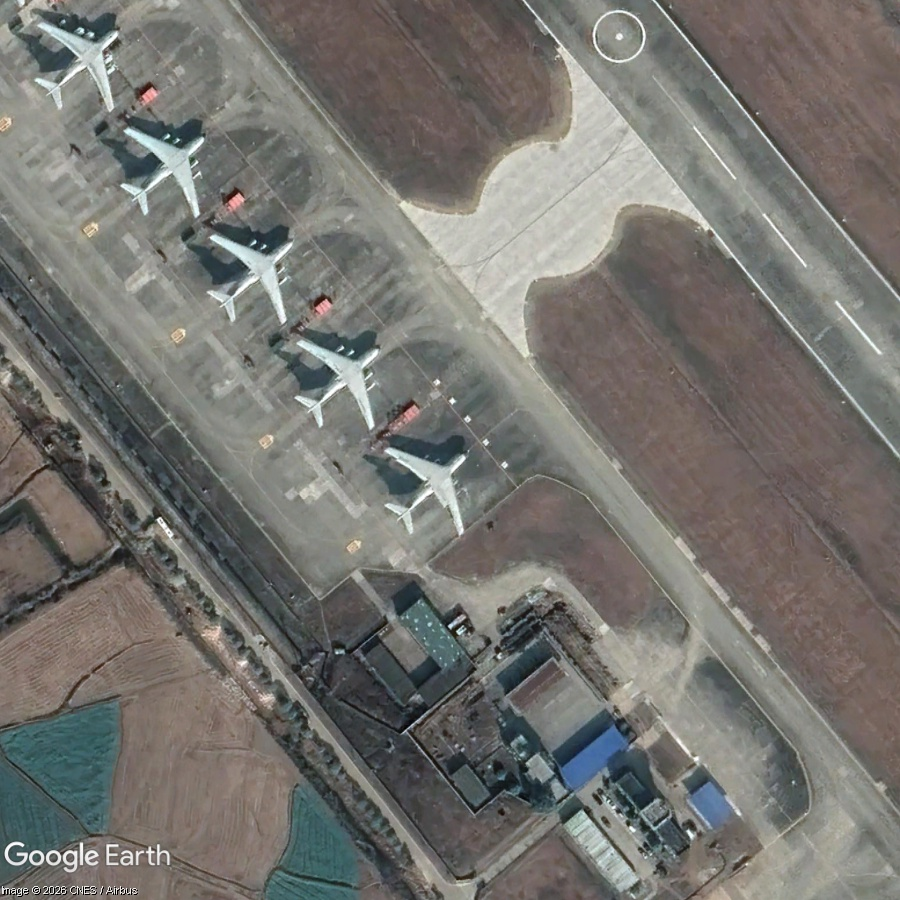Máy bay vận tải/Tiếp dầu: (350, 405, 512, 567), (261, 299, 422, 461), (174, 194, 335, 356), (89, 89, 247, 249), (1, 0, 162, 143)
